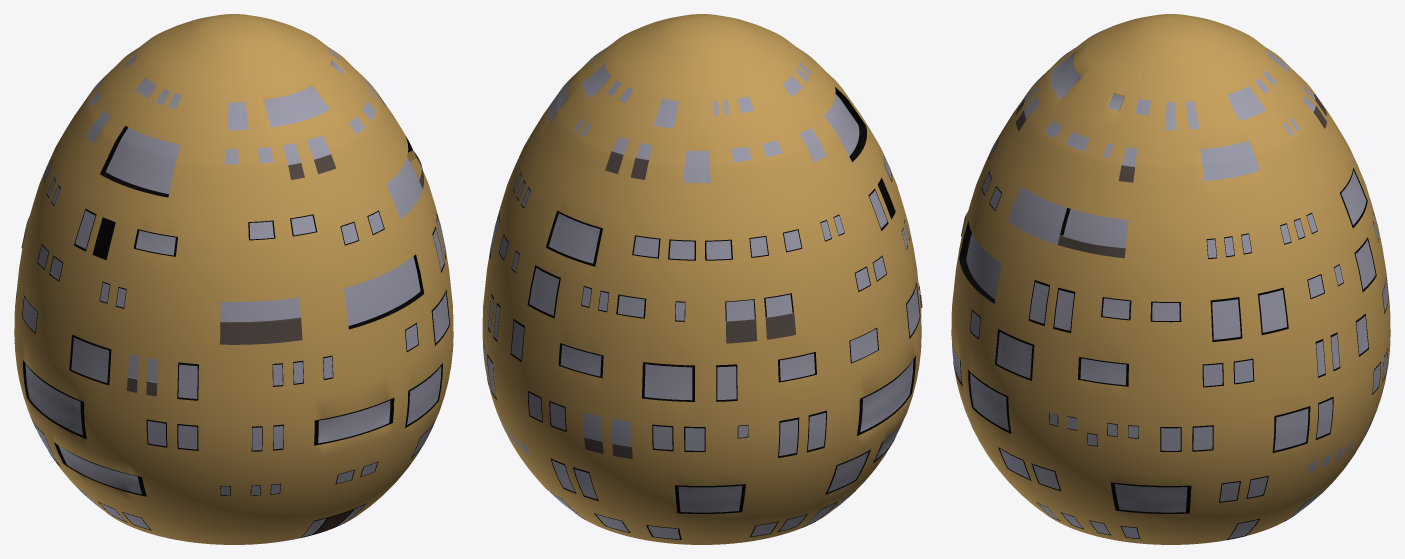
Rendered from GoldenEgg.fbx.
The picture shows the model from 3 angles, left to right: view 1: azimuth 30°, elevation 25°; view 2: azimuth 150°, elevation 25°; view 3: azimuth 270°, elevation 25°; orthographic projection.
Visible parts, largest first — view 1: Sphere; view 2: Sphere; view 3: Sphere.
Part boxes in pixels (box(x1,y1,x2,y2)): Sphere: box(14, 14, 453, 544); Sphere: box(482, 14, 922, 544); Sphere: box(951, 14, 1390, 544).
Size of the model in its own units: 1258 by 1450 by 1258.
